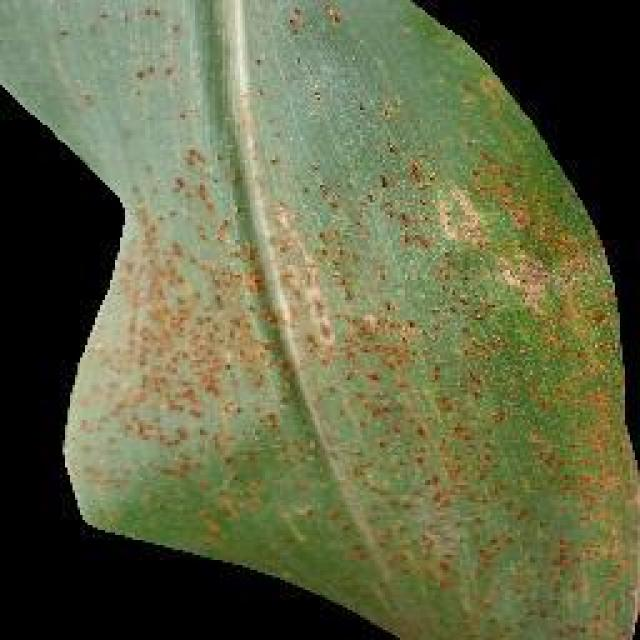Corn Common Rust: (154, 66, 588, 636)
